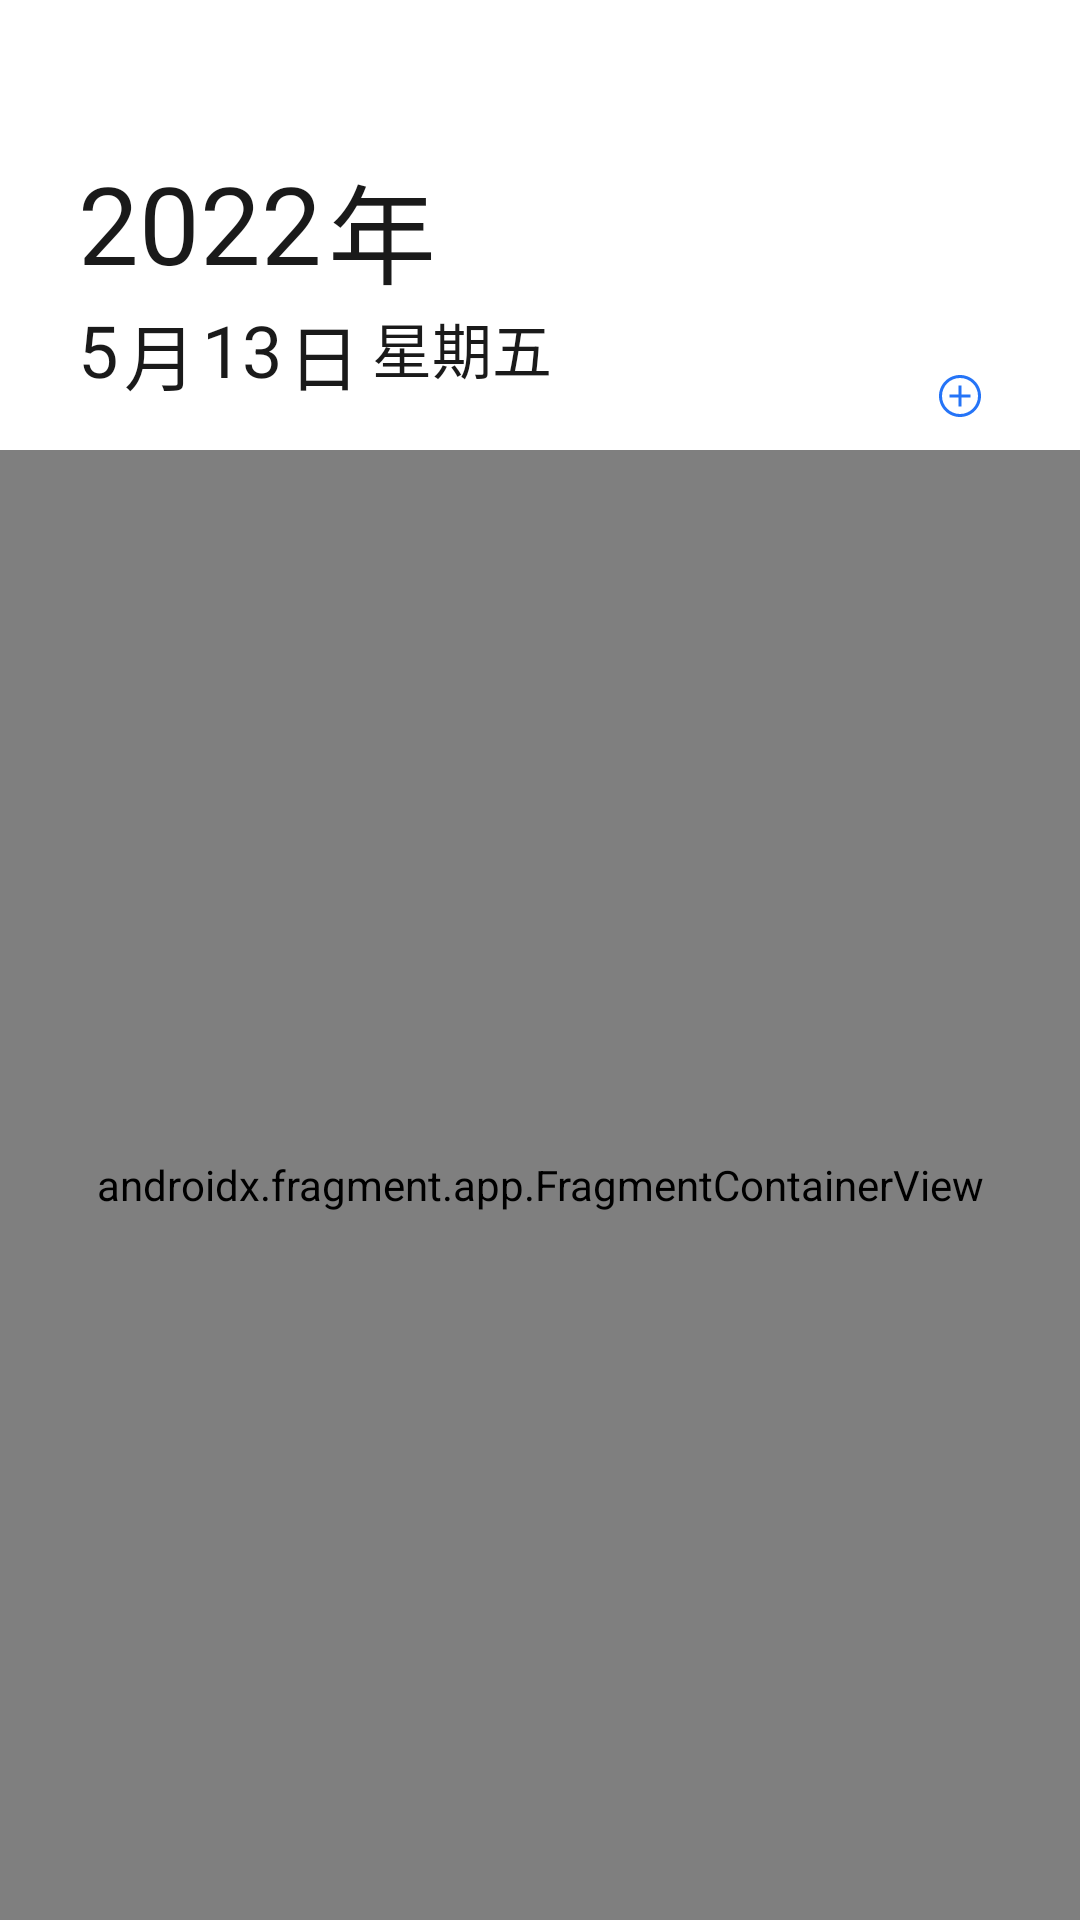

Where to tap for icons on this 1080×1920 app screen, as point (x, y):
加入事件: point (960, 396)
